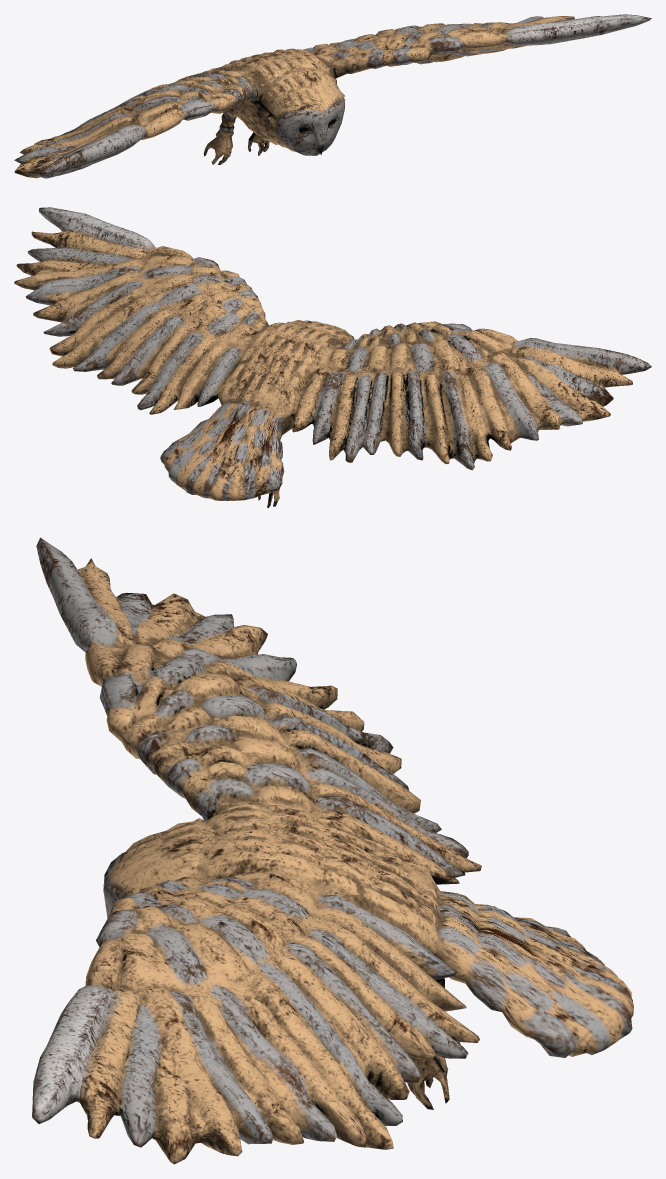
File: MZ4250 - Clockwork Owl - Bronze Rusty.glb
3 renders of one model, top to bottom at view 1: azimuth 30°, elevation 25°; view 2: azimuth 150°, elevation 25°; view 3: azimuth 270°, elevation 25°, orthographic. The views are drawn at different scales.
Parts seen in each view (by area): view 1: Clockwork Owl_low.001; view 2: Clockwork Owl_low.001; view 3: Clockwork Owl_low.001.
Part boxes in pixels (left/top/right/bottom): Clockwork Owl_low.001: left=14, top=14, right=651, bottom=178; Clockwork Owl_low.001: left=14, top=207, right=651, bottom=507; Clockwork Owl_low.001: left=32, top=537, right=633, bottom=1164.
Size of the model in its own units: 2 by 0.479 by 0.8569.
1 material, 1 textured.
